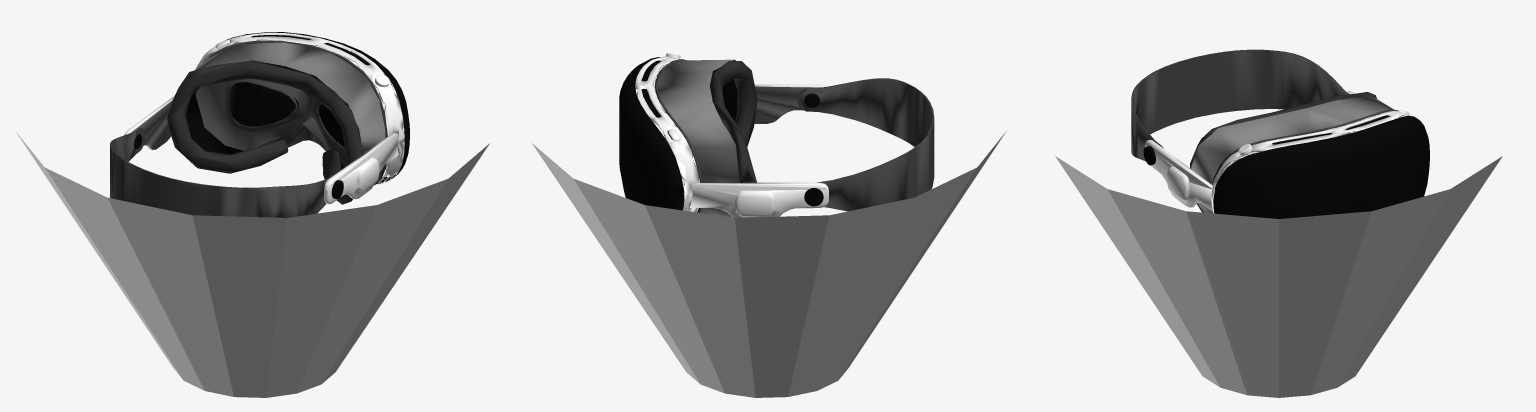
File: VR-Headset.glb
3 renders of one model, left to right at view 1: azimuth 30°, elevation 25°; view 2: azimuth 150°, elevation 25°; view 3: azimuth 270°, elevation 25°, orthographic.
Visible parts, largest first — view 1: Hologram_effect, vr-head-display, vr-head-strap; view 2: Hologram_effect, vr-head-display, vr-head-strap; view 3: Hologram_effect, vr-head-display, vr-head-strap.
Part boxes in pixels (x1,y1,x2,y2): Hologram_effect: [15, 131, 489, 397]; vr-head-display: [167, 32, 409, 204]; vr-head-strap: [110, 95, 398, 217]; Hologram_effect: [532, 131, 1006, 397]; vr-head-display: [619, 53, 757, 217]; vr-head-strap: [689, 78, 934, 217]; Hologram_effect: [1055, 156, 1502, 397]; vr-head-display: [1190, 92, 1429, 218]; vr-head-strap: [1131, 49, 1354, 211].
Bounding box in the file's own units: 0.7173 × 0.4525 × 0.7173.
2 materials, 2 textured.
